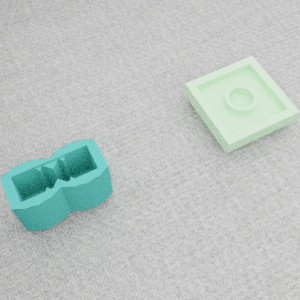lego: (184, 55, 300, 153), (0, 138, 113, 231)
